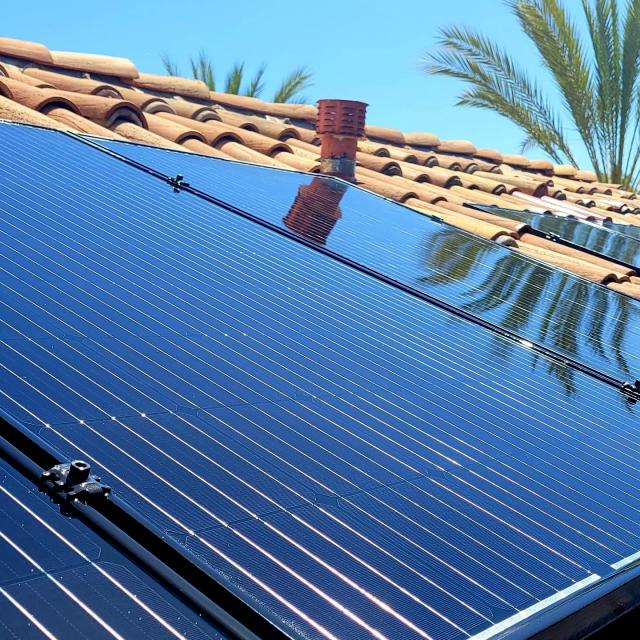crack: (101, 360, 347, 477), (214, 438, 372, 564), (412, 360, 565, 490), (339, 482, 514, 593), (110, 186, 239, 284), (424, 242, 539, 344), (39, 175, 167, 265), (240, 261, 360, 342), (320, 194, 440, 273), (39, 262, 142, 354), (67, 248, 194, 308), (21, 148, 79, 204)
